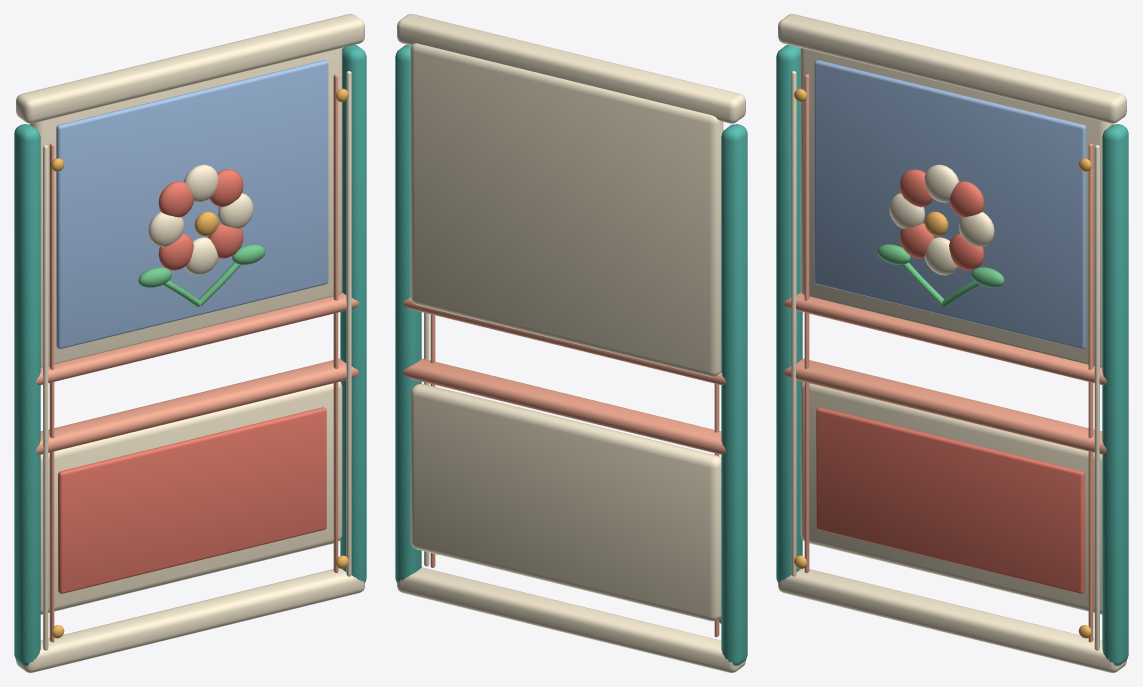
Rendered from hotelWallPanel.glb.
3 views of the same model, side by side, from view 1: azimuth 30°, elevation 25°; view 2: azimuth 150°, elevation 25°; view 3: azimuth 330°, elevation 25° (orthographic).
Visible parts, largest first — view 1: hotelWallPanel Bellmare warm ivory trim, hotelWallPanel Bellmare soft blue inset, hotelWallPanel Bellmare coral lower panel, hotelWallPanel Bellmare sea-glass enamel, hotelWallPanel Bellmare blush piping, hotelWallPanel Bellmare leaf accent, hotelWallPanel Bellmare honey details; view 2: hotelWallPanel Bellmare warm ivory trim, hotelWallPanel Bellmare sea-glass enamel, hotelWallPanel Bellmare blush piping; view 3: hotelWallPanel Bellmare warm ivory trim, hotelWallPanel Bellmare soft blue inset, hotelWallPanel Bellmare coral lower panel, hotelWallPanel Bellmare sea-glass enamel, hotelWallPanel Bellmare blush piping, hotelWallPanel Bellmare leaf accent, hotelWallPanel Bellmare honey details.
Part boxes in pixels (<box>): hotelWallPanel Bellmare warm ivory trim: <box>16,14,364,672</box>; hotelWallPanel Bellmare soft blue inset: <box>56,60,328,348</box>; hotelWallPanel Bellmare coral lower panel: <box>58,169,326,593</box>; hotelWallPanel Bellmare sea-glass enamel: <box>14,45,366,665</box>; hotelWallPanel Bellmare blush piping: <box>36,74,358,642</box>; hotelWallPanel Bellmare leaf accent: <box>138,244,265,306</box>; hotelWallPanel Bellmare honey details: <box>51,88,348,638</box>; hotelWallPanel Bellmare warm ivory trim: <box>397,14,745,672</box>; hotelWallPanel Bellmare sea-glass enamel: <box>395,45,747,665</box>; hotelWallPanel Bellmare blush piping: <box>403,297,725,637</box>; hotelWallPanel Bellmare warm ivory trim: <box>778,14,1126,672</box>; hotelWallPanel Bellmare soft blue inset: <box>814,60,1086,348</box>; hotelWallPanel Bellmare coral lower panel: <box>816,169,1084,593</box>; hotelWallPanel Bellmare sea-glass enamel: <box>776,45,1128,665</box>; hotelWallPanel Bellmare blush piping: <box>784,74,1106,642</box>; hotelWallPanel Bellmare leaf accent: <box>877,244,1004,306</box>; hotelWallPanel Bellmare honey details: <box>794,88,1091,638</box>.
Size of the model in its own units: 1.99 by 3.15 by 0.295.
